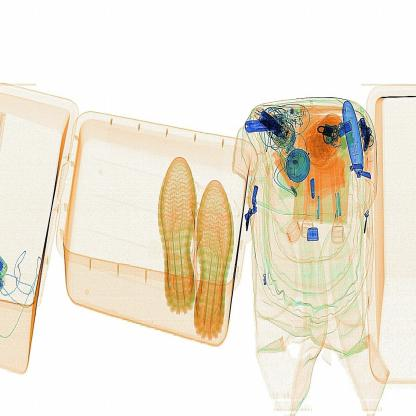knife: (236, 107, 284, 145)
